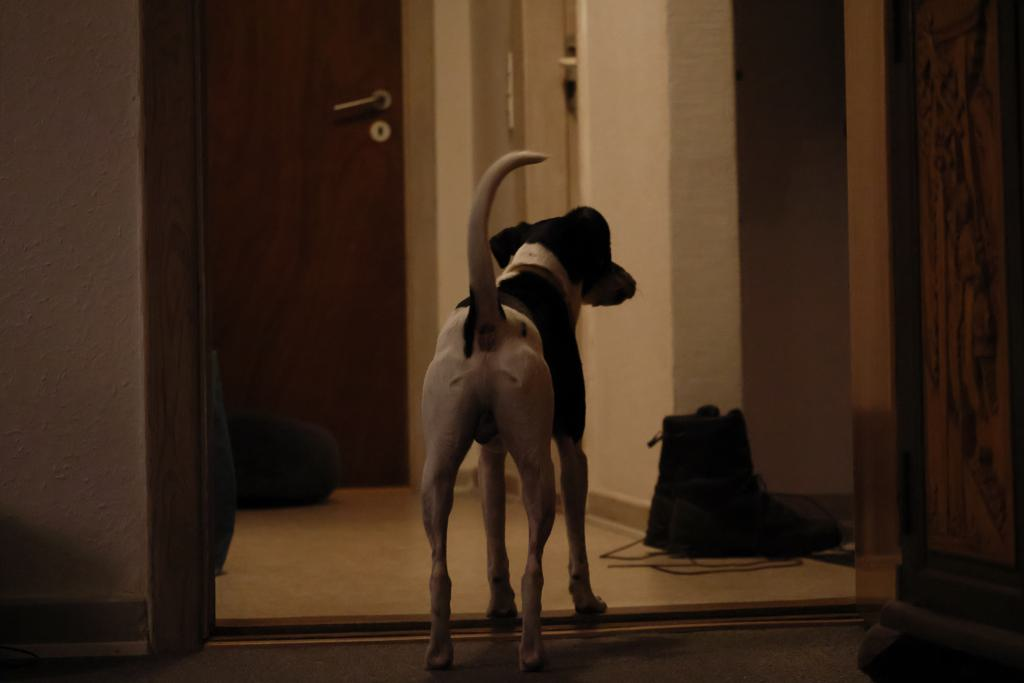Dog: (411, 140, 646, 679)
